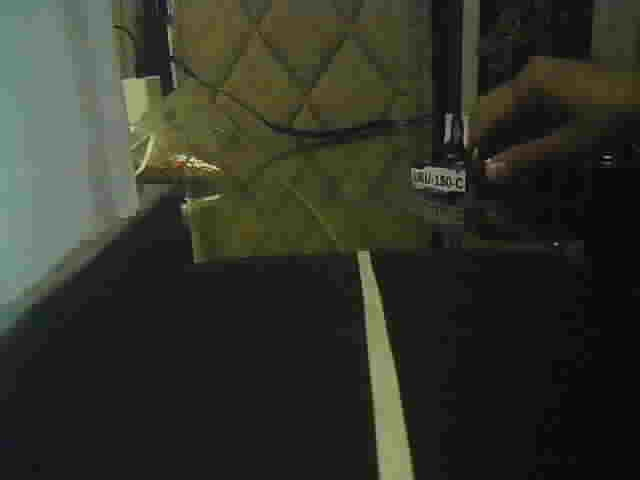PLACA: (408, 160, 468, 195)
ROSTRO: (444, 113, 466, 157)
